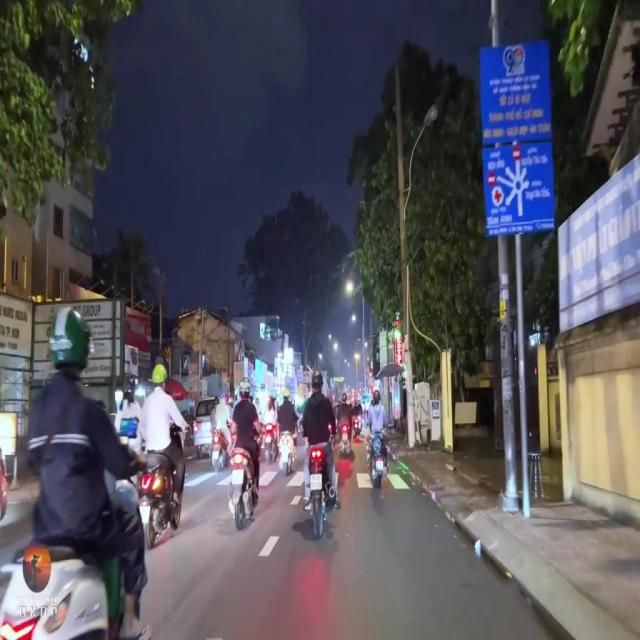khac: (480, 143, 554, 235)
